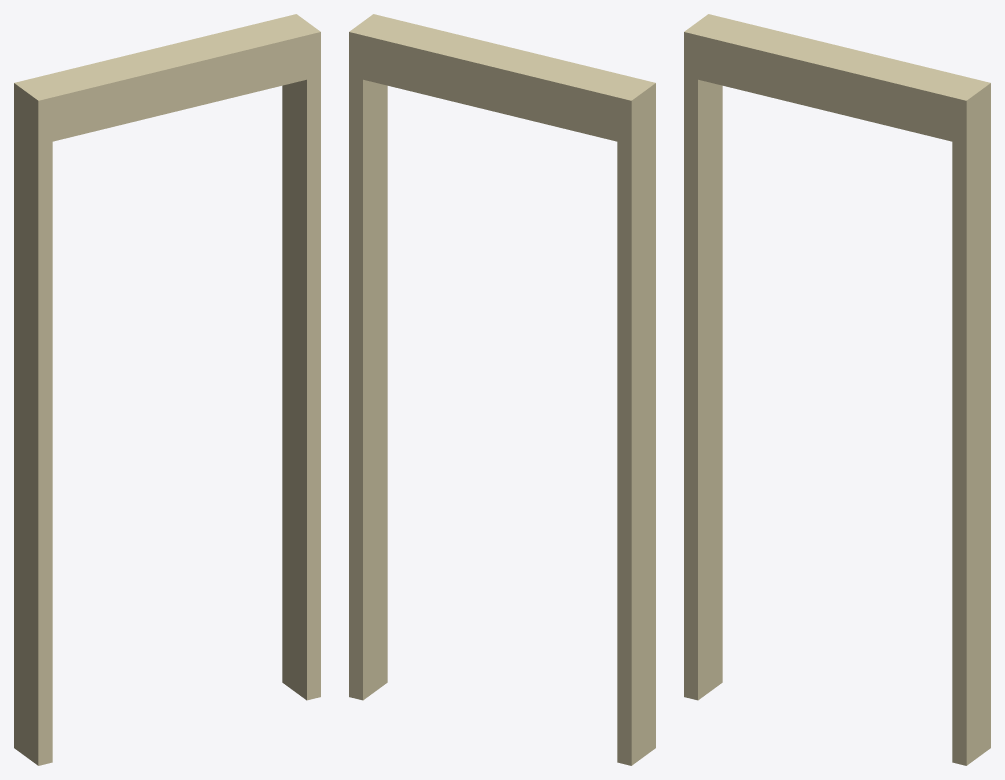
File: door_frame_standard.glb
3 renders of one model, left to right at view 1: azimuth 30°, elevation 25°; view 2: azimuth 150°, elevation 25°; view 3: azimuth 330°, elevation 25°, orthographic.
Visible parts, largest first — view 1: jamb_l, jamb_r, lintel; view 2: jamb_l, jamb_r, lintel; view 3: jamb_r, jamb_l, lintel.
Boxes of the visible parts, <box> form: jamb_l: <box>14,127,52,765</box>; jamb_r: <box>282,76,320,700</box>; lintel: <box>14,14,320,144</box>; jamb_l: <box>617,127,655,765</box>; jamb_r: <box>349,76,387,700</box>; lintel: <box>349,14,655,144</box>; jamb_r: <box>952,127,990,765</box>; jamb_l: <box>684,76,722,700</box>; lintel: <box>684,14,990,144</box>.
Size of the model in its own units: 1 by 2.25 by 0.15.
